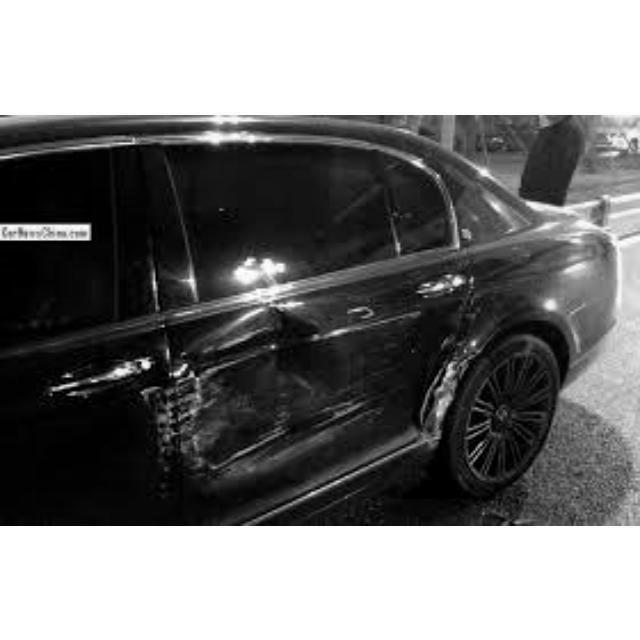doorouter-dent: (130, 297, 443, 521)
quaterpanel-dent: (438, 323, 488, 427)
